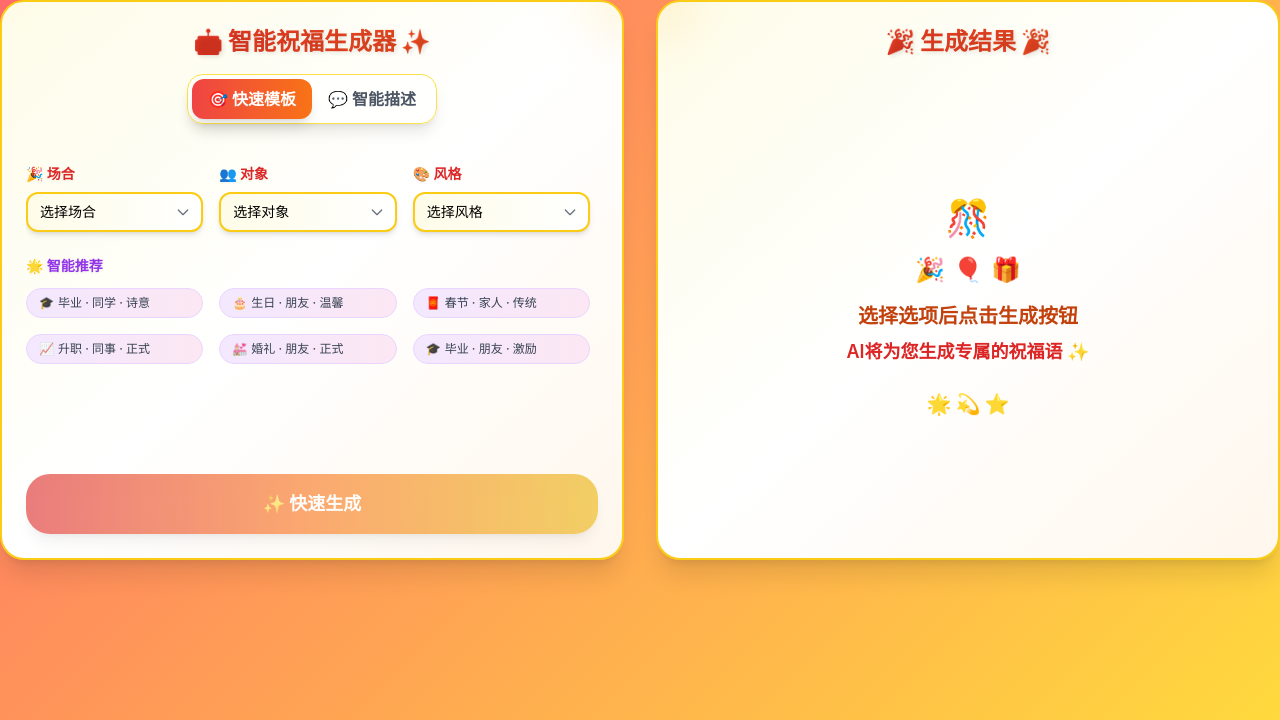
it: BlessingGenerator › handles clipboard copy failure gracefully
The image size is (1280, 720).
Generate a blessing first
Click the button "💬 智能描述" at [372, 99], box [312,79,432,119]
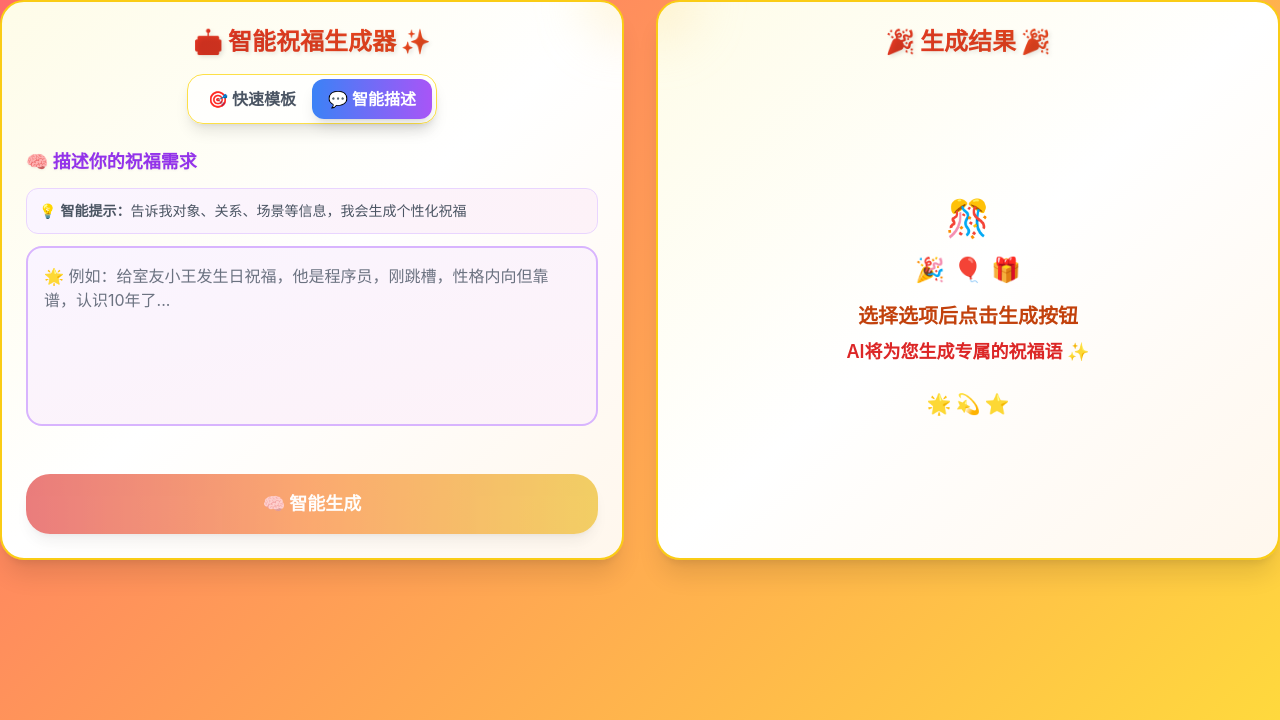
Type "生日祝福" into the text box with placeholder "🌟 例如：给室友小王发生日祝福，他是程序员，刚跳槽，性格内向但靠谱，认识10年了..." at [312, 336], box [26,246,598,426]
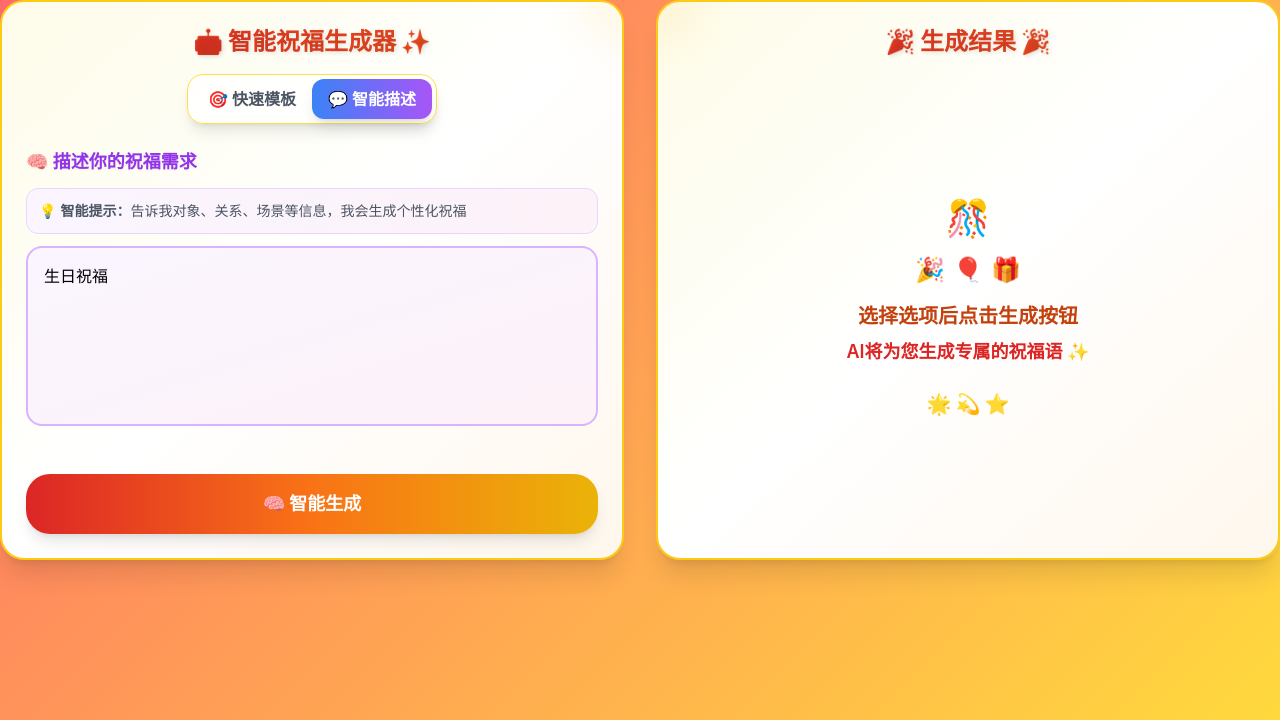
Click the button with aria-label "根据你的描述生成个性化祝福语" at [312, 504], box [26,474,598,534]
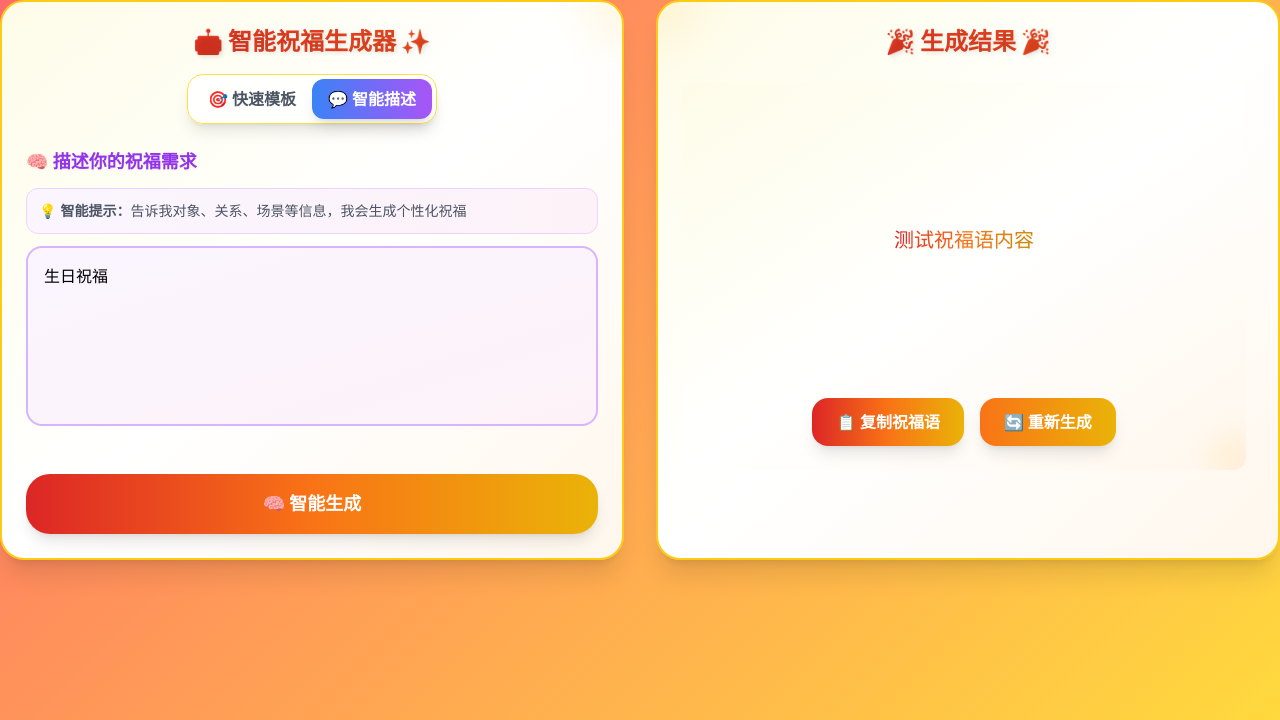
Now the text "测试祝福语内容" is shown, box [894,224,1034,256]
Click copy button
Click the button with aria-label "复制生成的祝福语到剪贴板" at [888, 422], box [812,398,964,446]
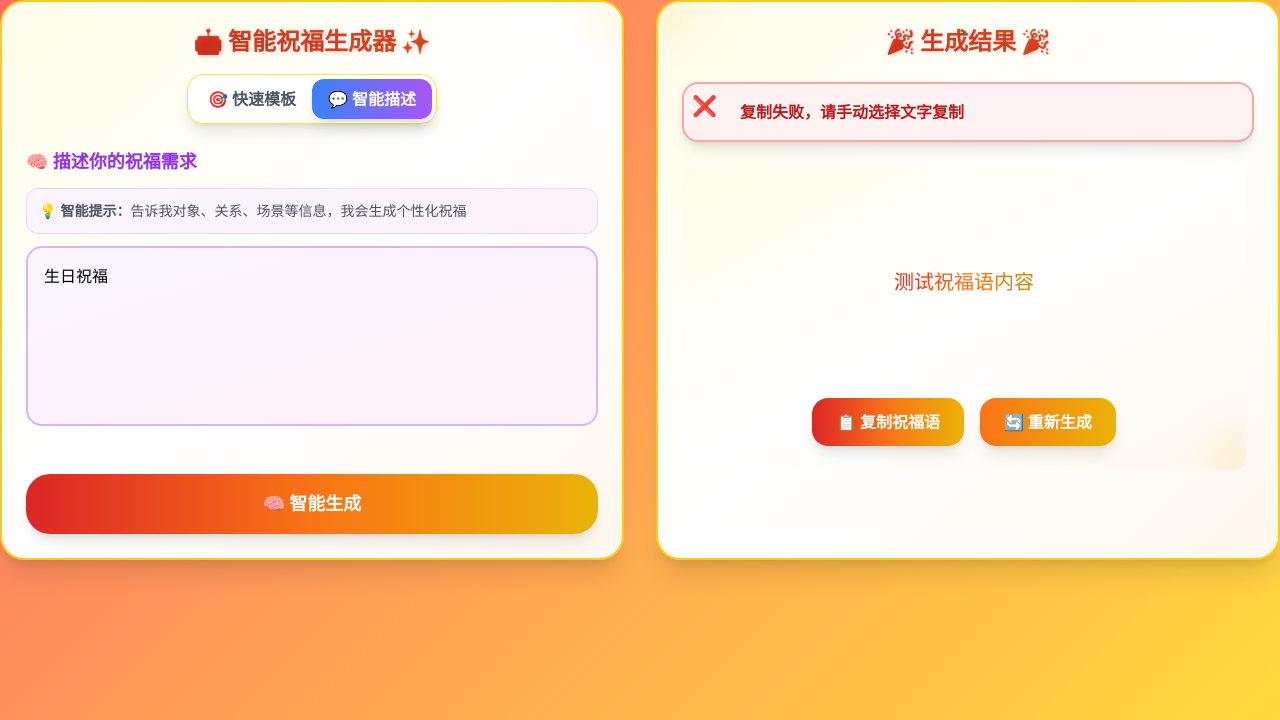
Now the message shows "复制失败，请手动选择文字复制", box [740,102,964,122]
